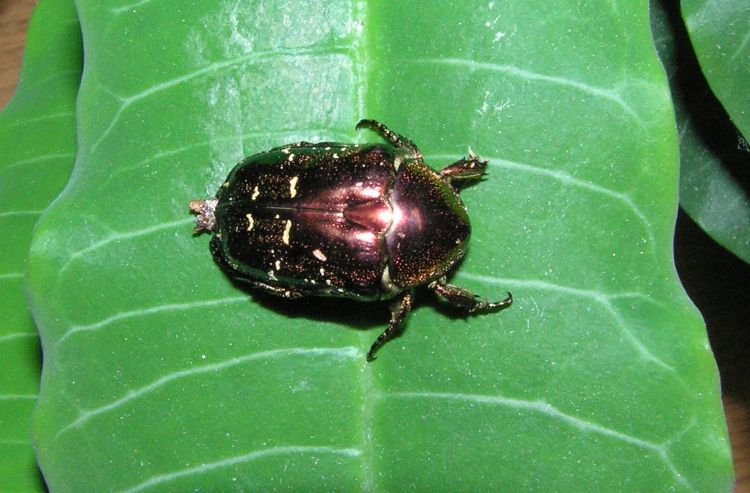Protaetia _orientalis: (189, 117, 517, 368)
